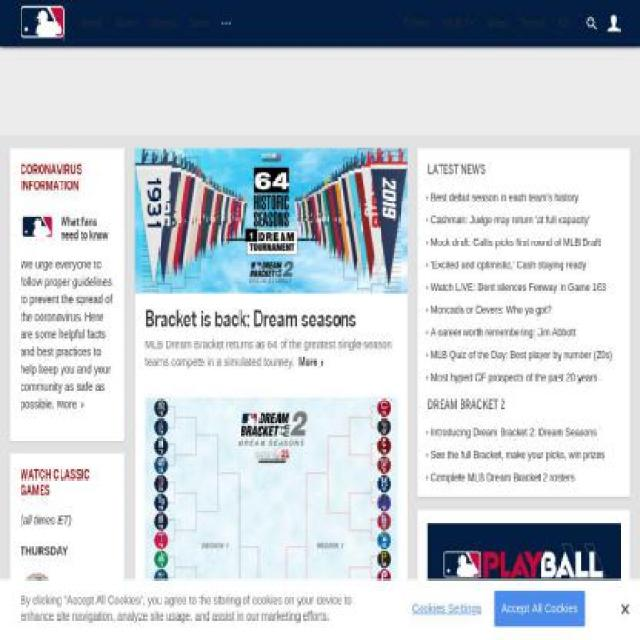button: (144, 398, 398, 639), (135, 148, 408, 294), (427, 523, 621, 640), (145, 306, 398, 334), (494, 590, 586, 627), (20, 207, 115, 242), (405, 592, 483, 626), (431, 0, 477, 48), (142, 0, 184, 48), (392, 0, 434, 48), (514, 0, 554, 48), (74, 0, 111, 48), (108, 0, 144, 48), (20, 4, 65, 42), (19, 206, 55, 252), (183, 0, 217, 48), (478, 0, 512, 48), (552, 0, 578, 48), (597, 14, 620, 32), (586, 17, 597, 29)
